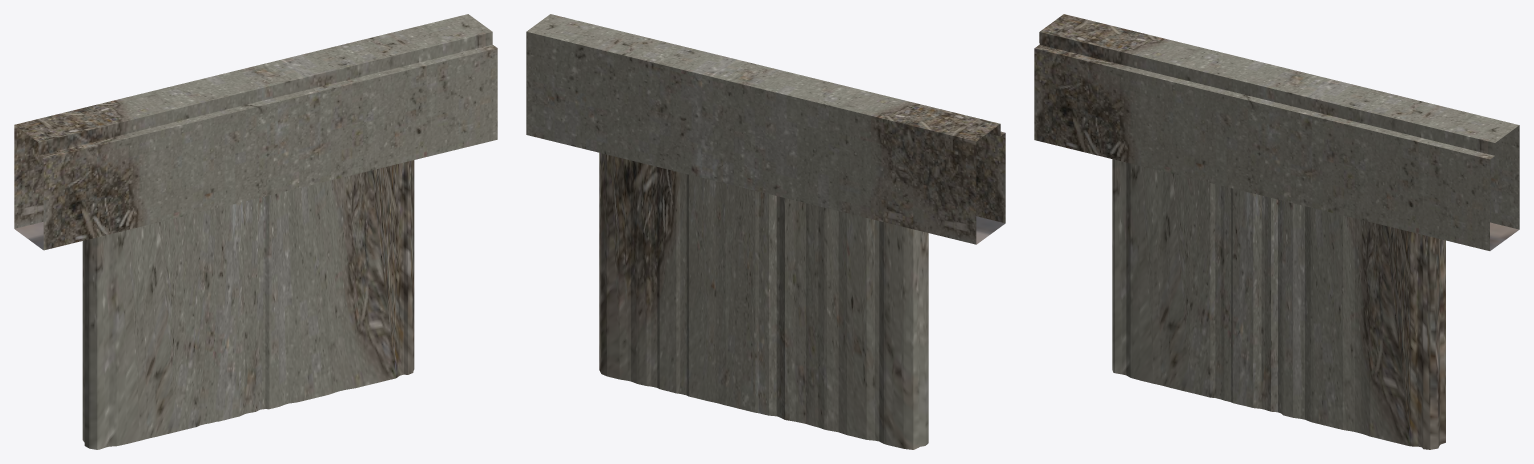
Rendered from corridor_cracked.fbx.
3 views of the same model, side by side, from view 1: azimuth 30°, elevation 25°; view 2: azimuth 150°, elevation 25°; view 3: azimuth 330°, elevation 25° (orthographic).
Visible parts, largest first — view 1: Cube.010; view 2: Cube.010; view 3: Cube.010.
Boxes of the visible parts, left/top/right/bottom form: Cube.010: left=14, top=14, right=497, bottom=449; Cube.010: left=526, top=14, right=1005, bottom=449; Cube.010: left=1034, top=14, right=1519, bottom=449.
Bounding box in the file's own units: 3594 × 2488 × 403.
Materials: 2 (2 with a texture image).
